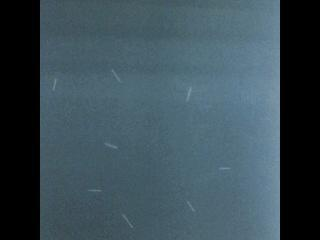scratch: (81, 182, 111, 200), (103, 66, 126, 87), (183, 83, 202, 104), (100, 137, 122, 154), (119, 209, 136, 230), (46, 75, 63, 95), (216, 162, 235, 174), (184, 197, 196, 213)
